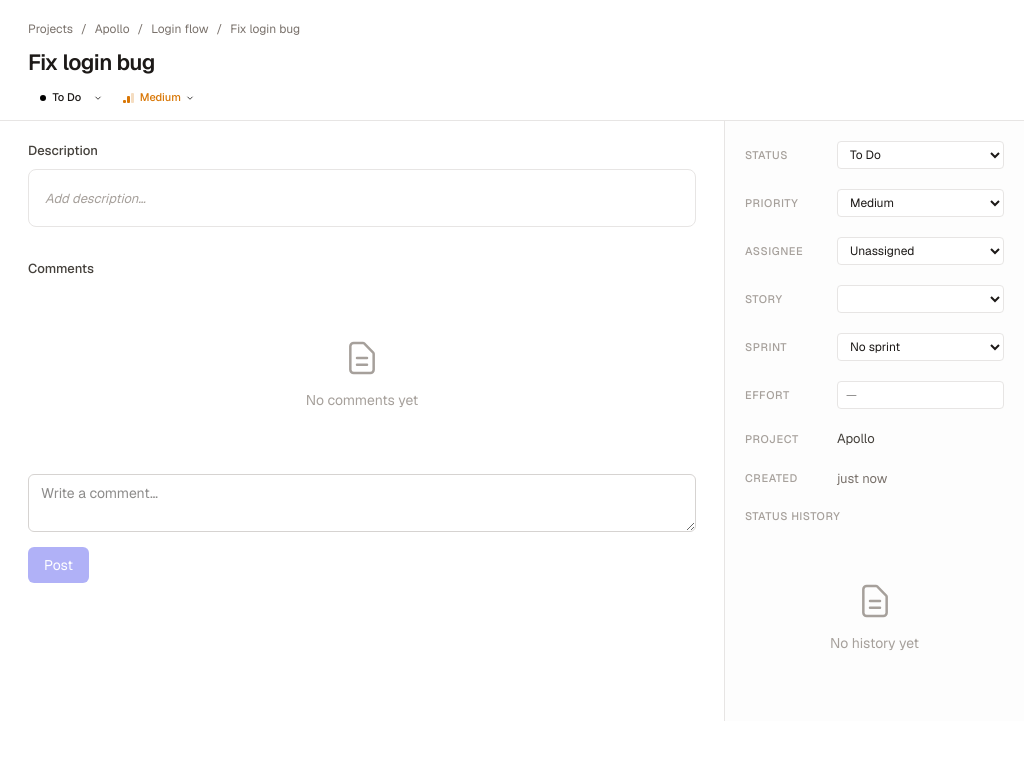
it: TaskDetailPage click-to-edit title › reverts the draft and leaves edit mode on Escape without saving
Click the heading "Fix login bug" at (91, 62), box [28,48,155,76]
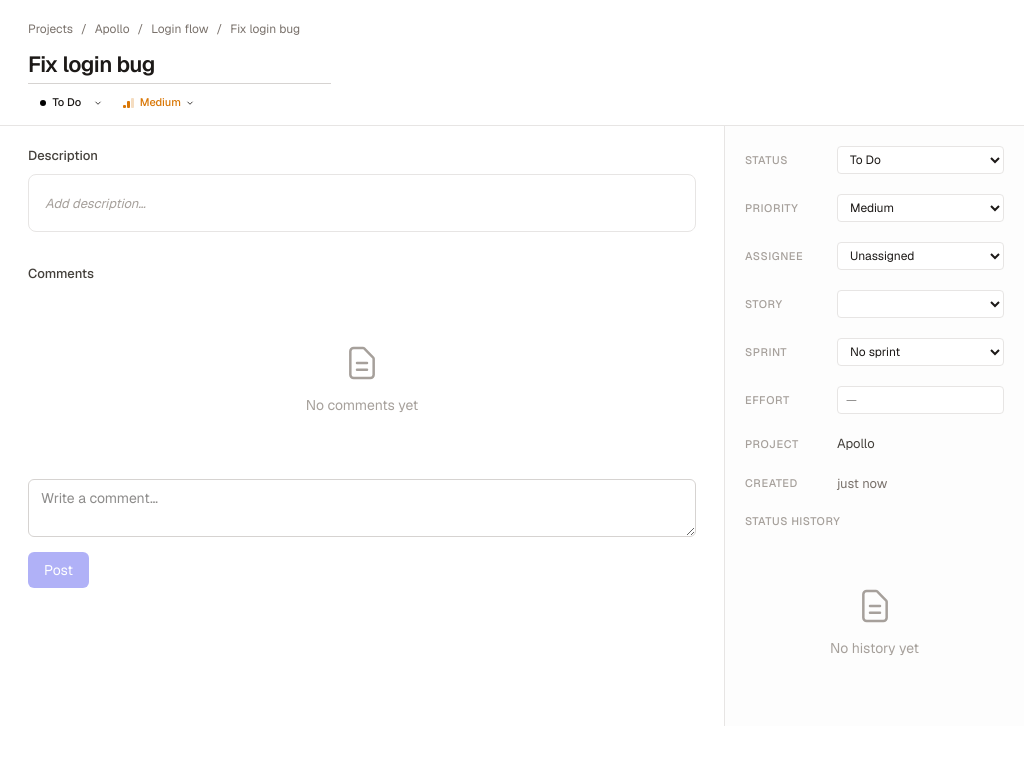
Replace the text in the field showing "Fix login bug" with "Something unsaved" at (180, 65), box [28,46,331,84]
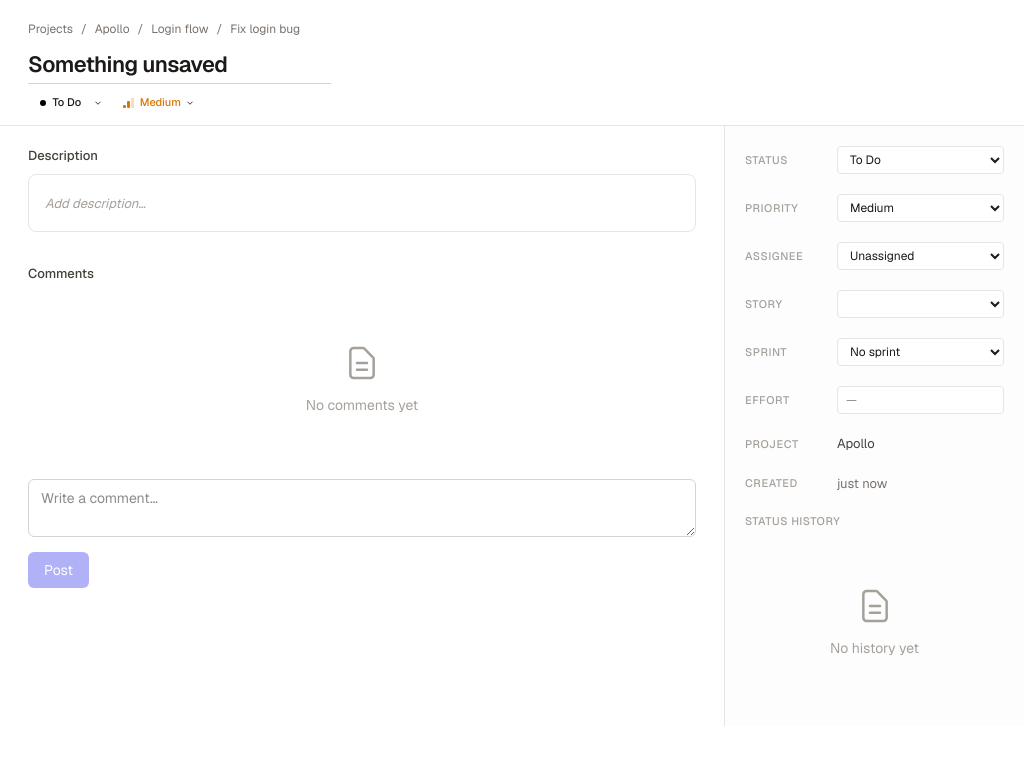
Press Escape
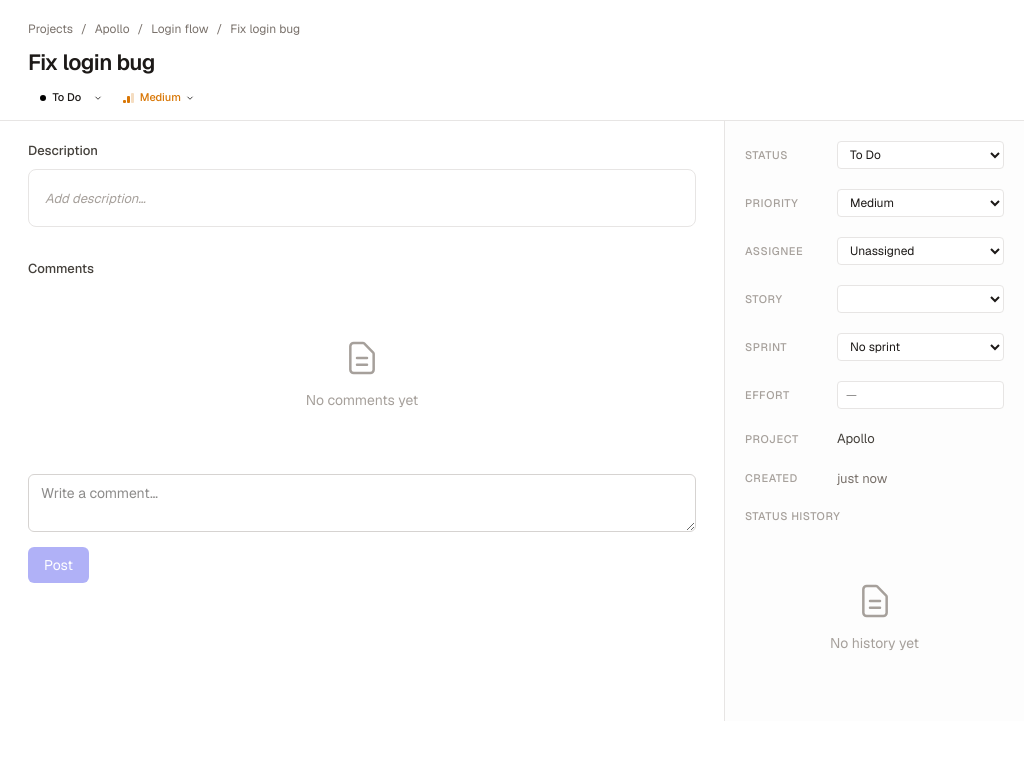
Expected: the heading "Fix login bug" is shown, [28,48,155,76]
